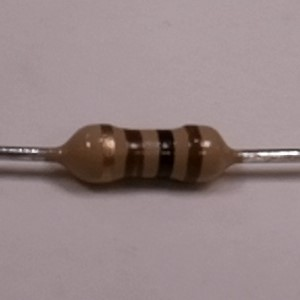black_band: (150, 127, 177, 183)
brown_band: (181, 121, 206, 189), (119, 126, 147, 185)
gold_band: (97, 120, 116, 187)
